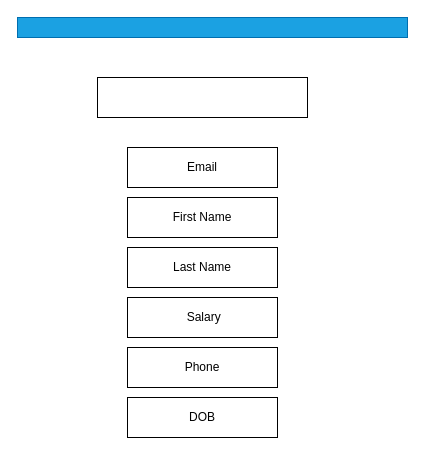
Image size: 425x455. Some labels were removed from this diagram. Here are the shapes that lost their labels. From the top down, the box of each, then its label:
(16, 16, 408, 38): Navigation Bar
(96, 76, 308, 118): Employee Registration
